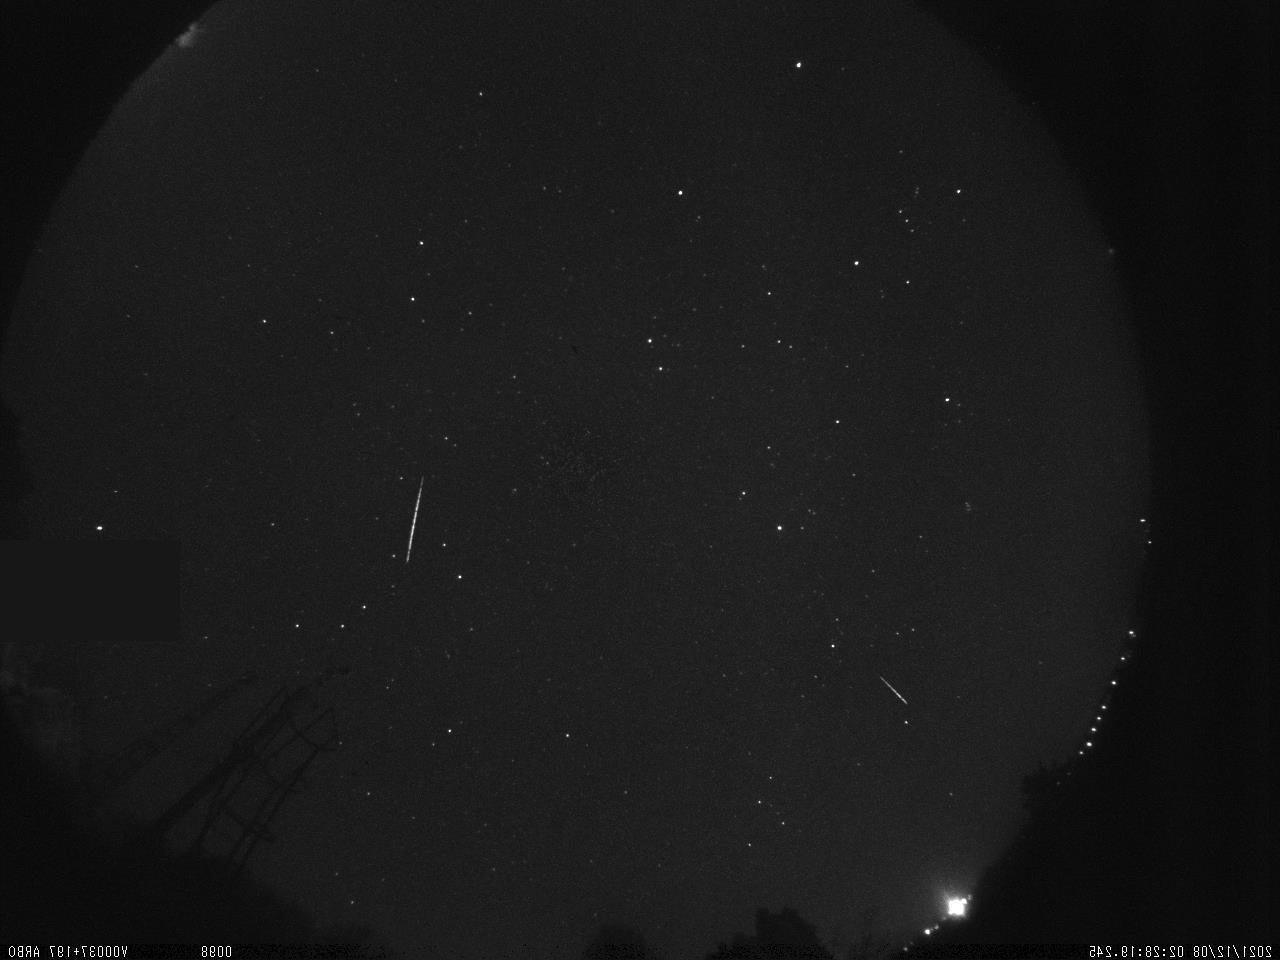meteor: (382, 461, 435, 572)
